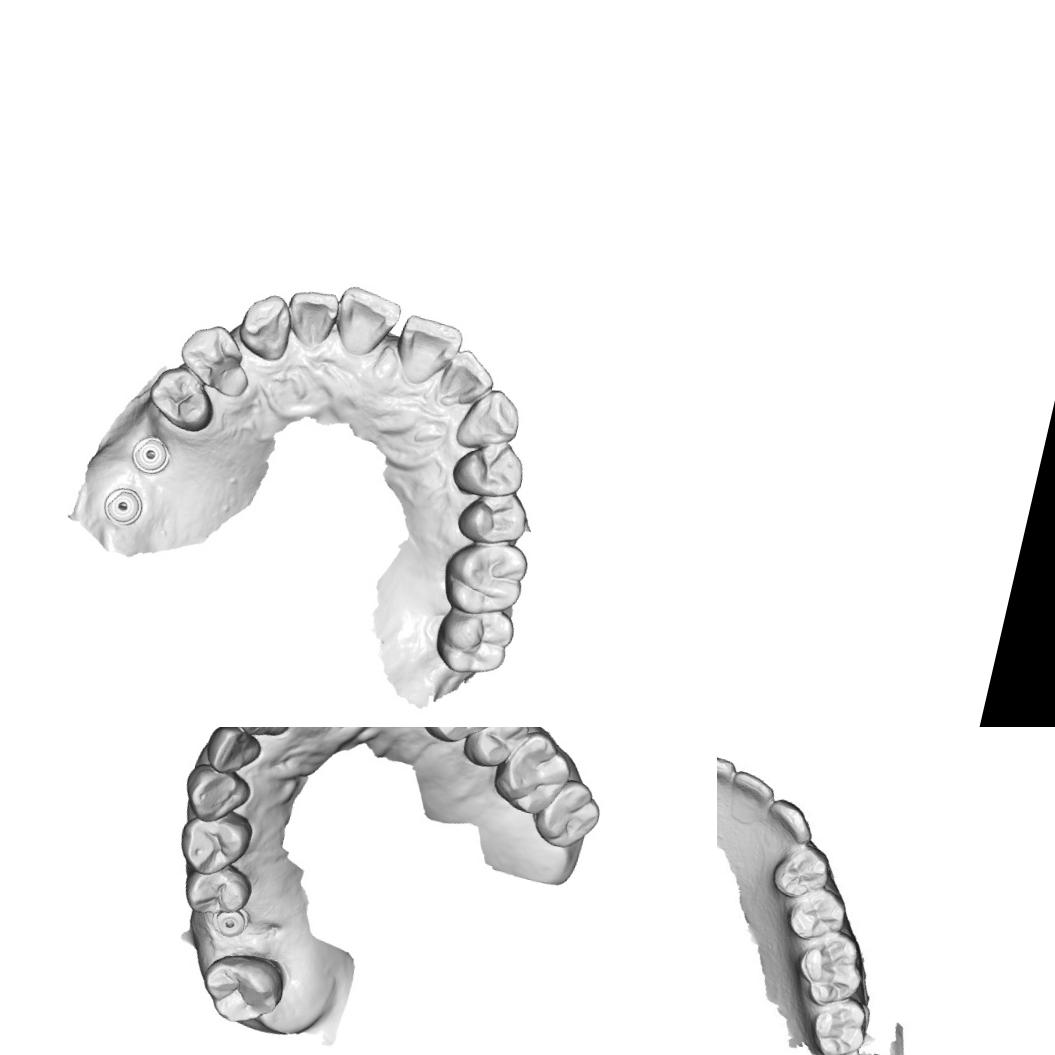canine: (452, 380, 528, 458), (176, 759, 257, 830), (232, 287, 300, 367), (760, 792, 822, 850)
implant: (98, 482, 150, 531), (127, 430, 175, 478), (210, 904, 252, 942)
incisor: (389, 310, 469, 394), (328, 281, 406, 363), (433, 344, 502, 415), (279, 282, 345, 354), (199, 727, 266, 782), (726, 764, 778, 816), (717, 750, 741, 806)
molar: (433, 528, 534, 625), (484, 727, 580, 825), (193, 942, 293, 1034), (428, 599, 522, 685), (529, 769, 609, 858), (788, 927, 869, 1012), (803, 994, 873, 1055)
premolar: (171, 317, 261, 402), (172, 800, 259, 886), (446, 431, 531, 507), (142, 360, 222, 437), (452, 481, 534, 553), (176, 855, 258, 925), (780, 880, 852, 949), (768, 836, 839, 905), (459, 727, 536, 780), (421, 727, 503, 751)
